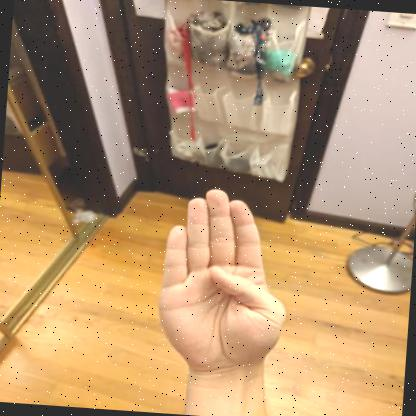B: (158, 189, 286, 381)
